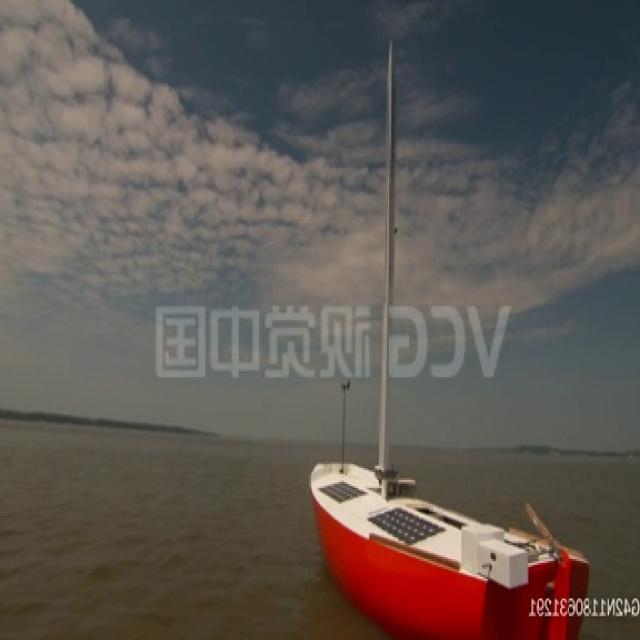houseboat: (308, 434, 595, 640)
